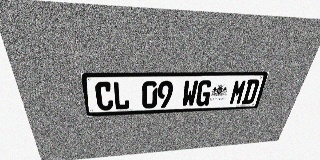0: (142, 81, 158, 109)
9: (157, 81, 174, 108)
C: (94, 82, 114, 111)
D: (241, 79, 260, 104)
G: (195, 80, 213, 106)
L: (112, 81, 130, 110)
M: (229, 79, 248, 105)
W: (181, 80, 199, 107)
